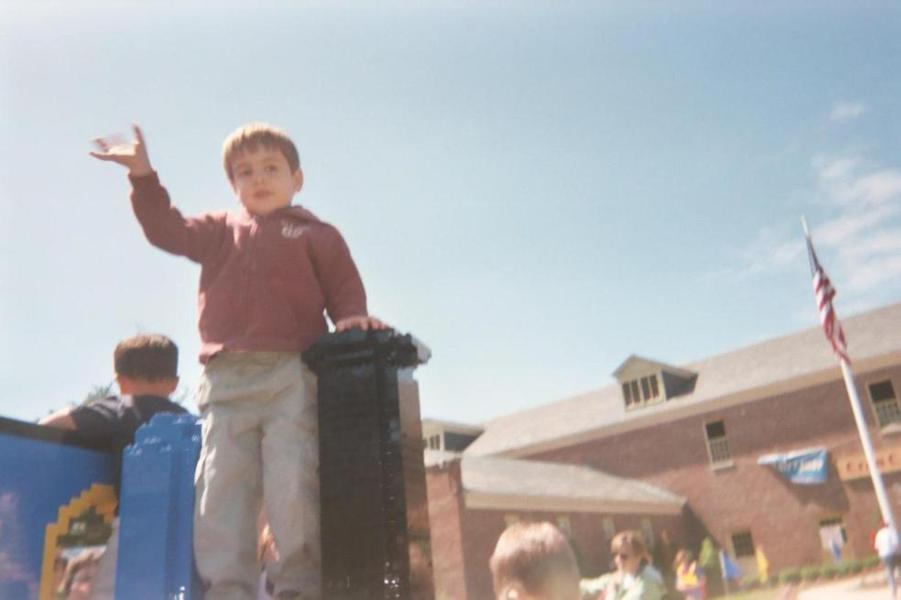person: (93, 125, 387, 600)
